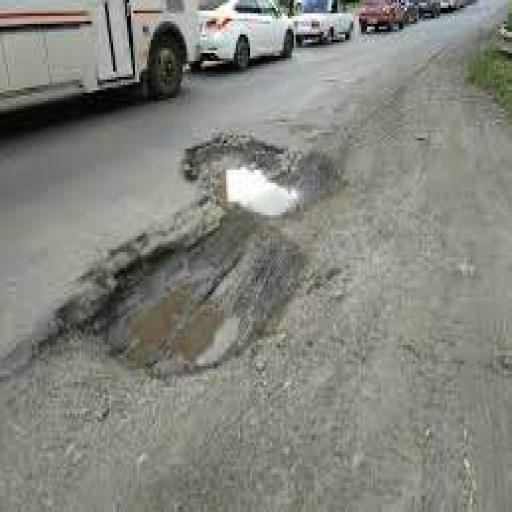bottle: (199, 0, 295, 68)
entrance: (106, 210, 303, 376), (183, 136, 341, 217)
ramp: (0, 35, 414, 350)
